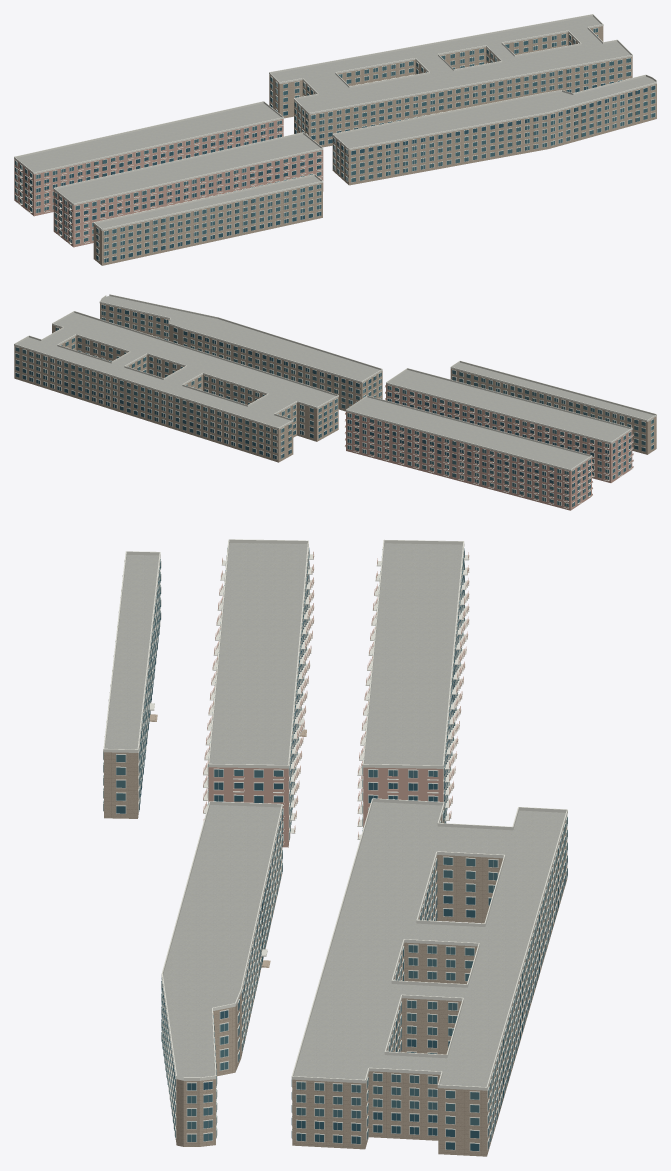
The model's file is chunk-n2-p2.glb.
The picture shows the model from 3 angles, top to bottom: view 1: azimuth 30°, elevation 25°; view 2: azimuth 150°, elevation 25°; view 3: azimuth 270°, elevation 25°; orthographic projection. The views are drawn at different scales.
Visible parts, largest first — view 1: chunk-n2-p2; view 2: chunk-n2-p2; view 3: chunk-n2-p2.
Part boxes in pixels (x1,y1,x2,y2): chunk-n2-p2: (14, 14, 656, 265); chunk-n2-p2: (14, 294, 656, 510); chunk-n2-p2: (103, 539, 567, 1156).
Size of the model in its own units: 299 by 21.52 by 108.
6 materials, 2 textured.
